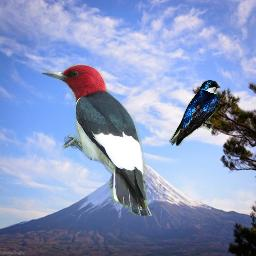Swallow: (169, 80, 221, 146)
Woodpecker: (39, 64, 155, 216)
